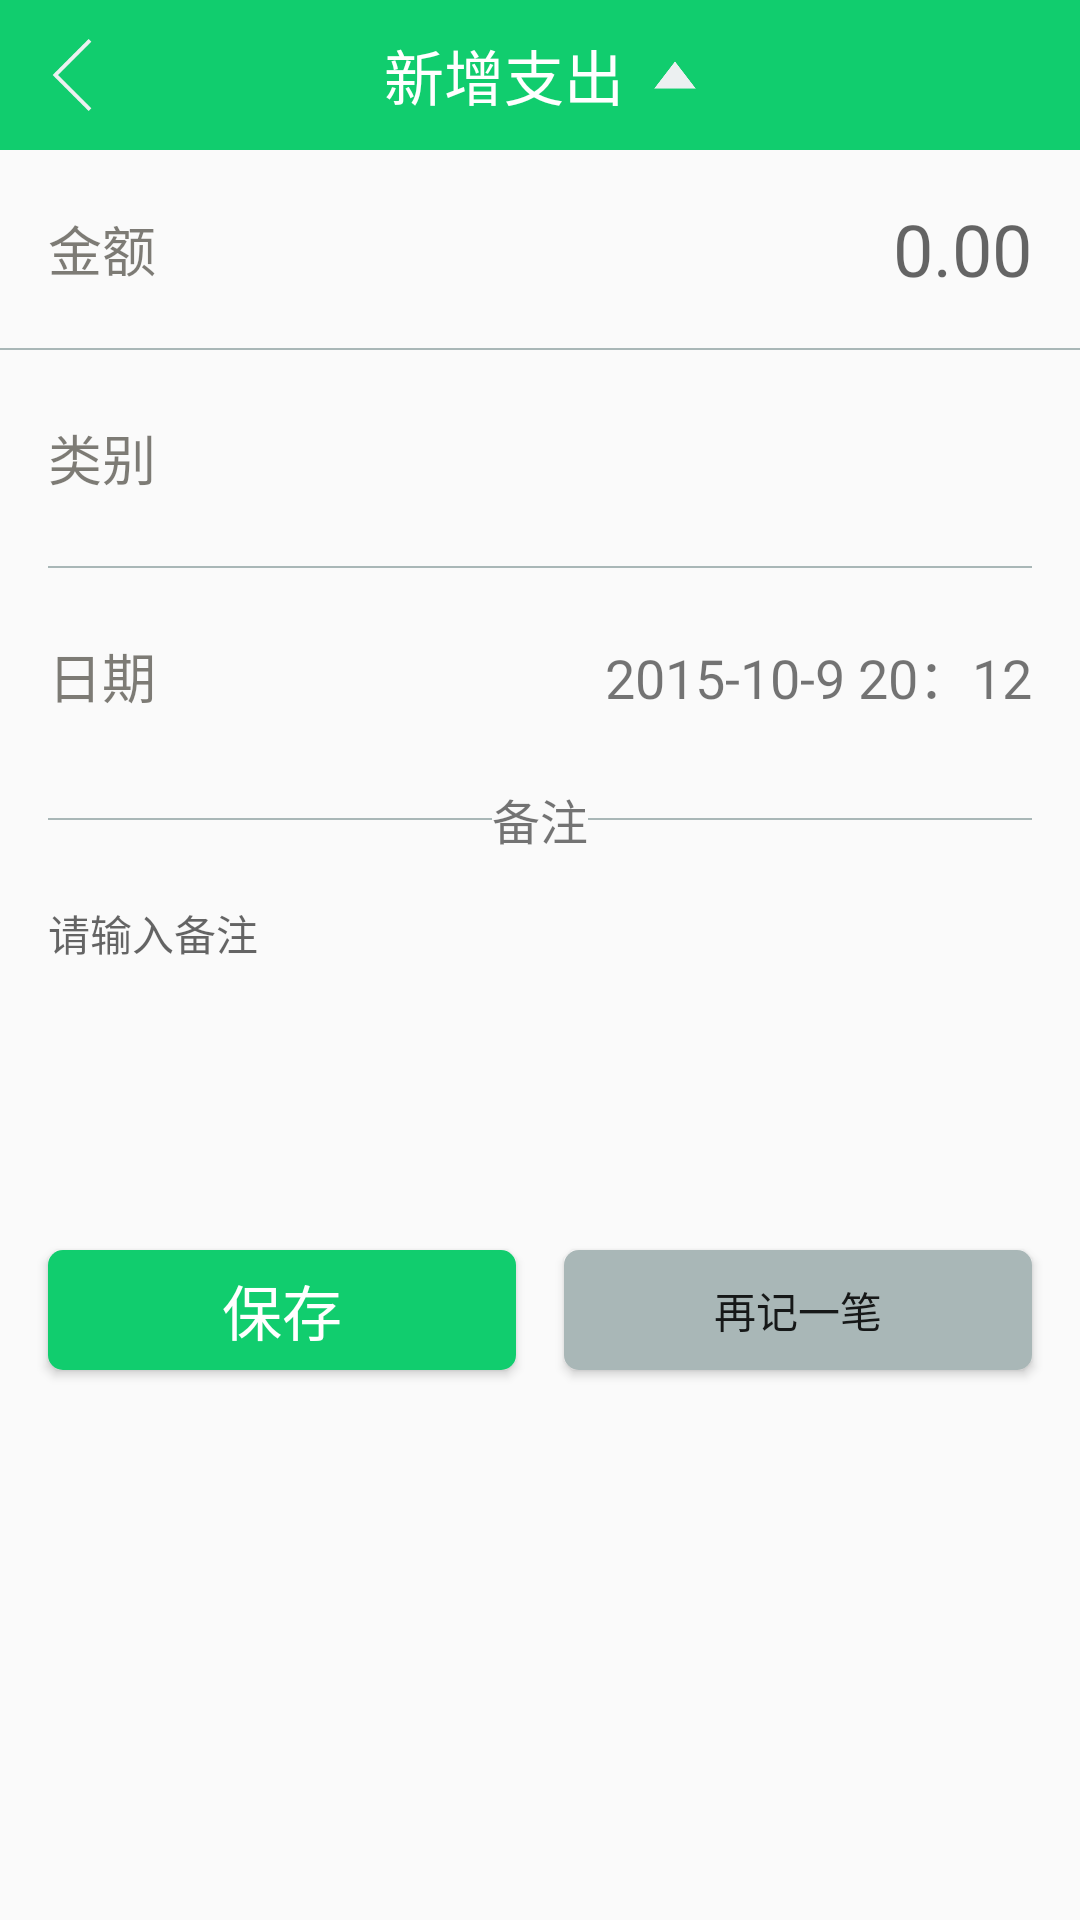

Named icons in this screenshot (1080x1920) and their centers, (x=x, y=y):
sanjiao up: (x=675, y=75)
